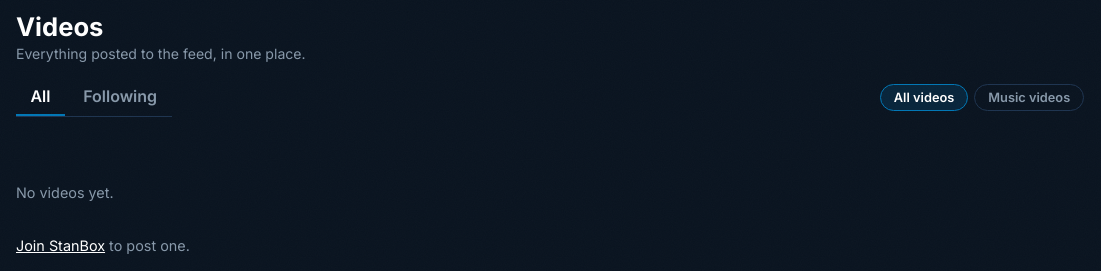
Scenario: Videos page › the Music videos filter asks for music only
The image size is (1101, 271).
Expected: the text "No videos yet." is shown, left=16, top=184, right=114, bottom=201
Click the button "Music videos" at (1029, 98), box left=974, top=84, right=1084, bottom=111
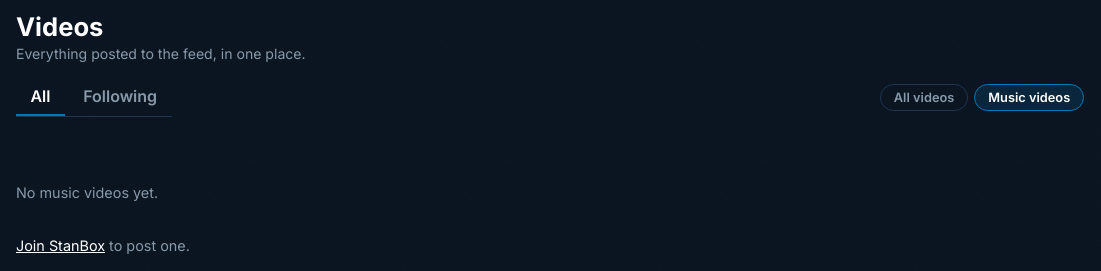
Expected: the text "No music videos yet." is shown, left=16, top=184, right=158, bottom=201
